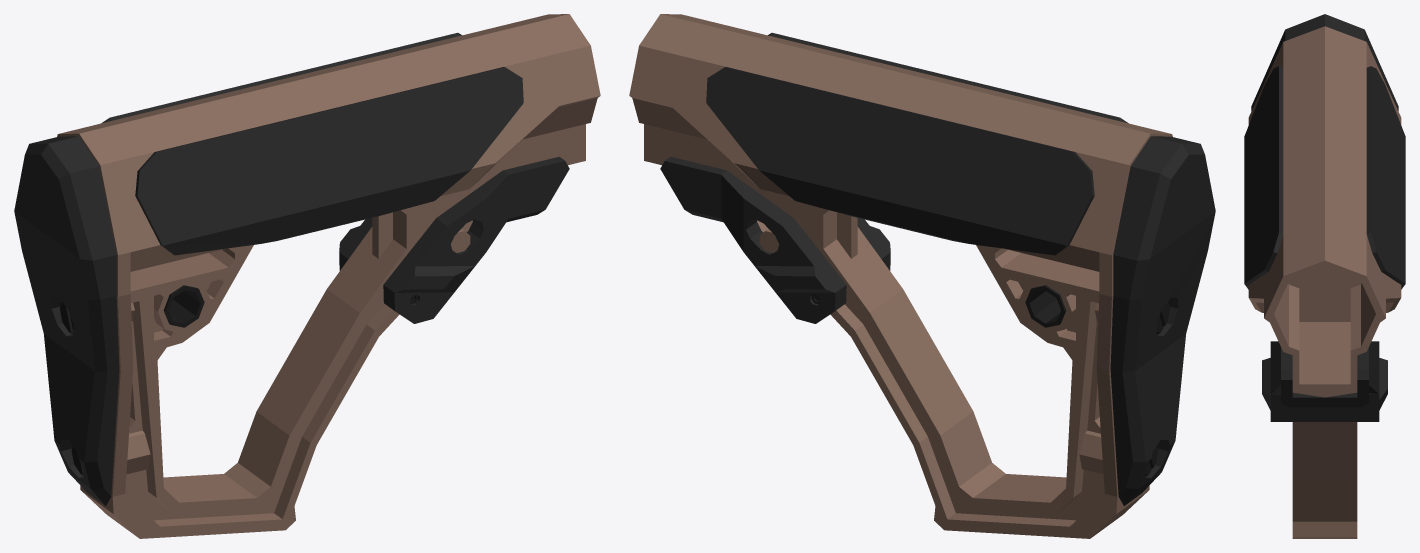
Rendered from dd_mk18_stock.glb.
3 renders of one model, left to right at view 1: azimuth 30°, elevation 25°; view 2: azimuth 150°, elevation 25°; view 3: azimuth 270°, elevation 25°, orthographic. The views are drawn at different scales.
Visible parts, largest first — view 1: ddmk18 stock_17 (×3); view 2: ddmk18 stock_17 (×3); view 3: ddmk18 stock_17 (×2).
Boxes of the visible parts, left/top/right/bottom form: ddmk18 stock_17 (×3): left=14, top=14, right=600, bottom=538; ddmk18 stock_17 (×3): left=629, top=14, right=1215, bottom=538; ddmk18 stock_17 (×2): left=1244, top=14, right=1405, bottom=538.
Size of the model in its own units: 1.71 by 1.33 by 0.4632.
